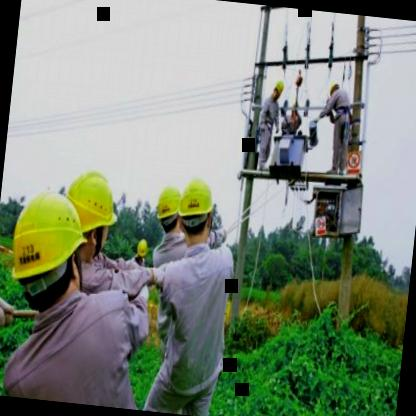helmet: (7, 176, 102, 304), (57, 161, 127, 266), (170, 166, 218, 247), (150, 172, 188, 240), (134, 233, 148, 262), (271, 78, 286, 102), (326, 77, 340, 102)
